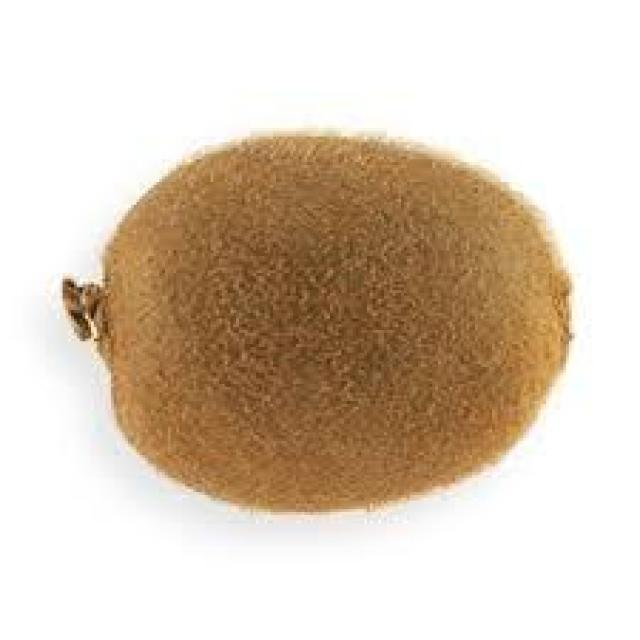organic: (60, 134, 577, 518)
